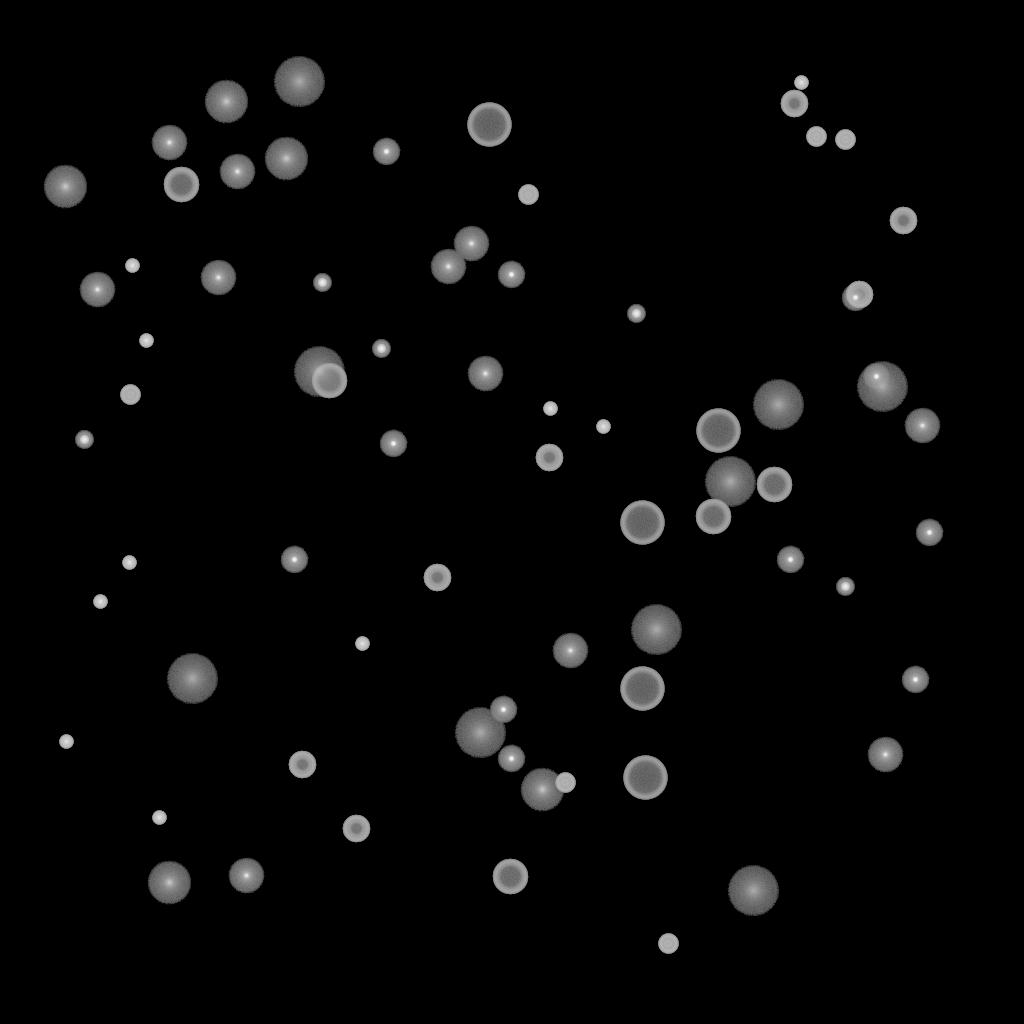depth:-10: (776, 546, 804, 574), (841, 284, 869, 312), (497, 745, 525, 773), (280, 546, 308, 574), (372, 138, 400, 166), (915, 519, 943, 547), (901, 666, 929, 694), (379, 430, 407, 458), (497, 261, 525, 289), (862, 363, 890, 391), (489, 696, 517, 724)
depth:-20: (627, 305, 645, 323), (836, 578, 854, 596), (313, 274, 331, 292), (75, 431, 93, 449), (372, 340, 390, 358)
depth:-30: (543, 402, 557, 416), (122, 556, 136, 570), (596, 420, 610, 434), (152, 811, 166, 825), (794, 76, 808, 90), (139, 334, 153, 348), (93, 595, 107, 609), (355, 637, 369, 651), (59, 735, 73, 749), (125, 259, 139, 273)
depth:-40: (658, 934, 678, 954), (120, 385, 140, 405), (555, 773, 575, 793), (806, 127, 826, 147), (835, 130, 855, 150), (518, 185, 538, 205)
depth:-50: (780, 90, 808, 118), (342, 815, 370, 843), (535, 444, 563, 472), (845, 281, 873, 309), (288, 751, 316, 779), (889, 207, 917, 235), (423, 564, 451, 592)
depth:-60: (311, 363, 347, 399), (163, 167, 199, 203), (492, 859, 528, 895), (695, 499, 731, 535), (756, 467, 792, 503)
depth:-70: (620, 667, 664, 711), (623, 756, 667, 800), (696, 409, 740, 453), (620, 501, 664, 545), (467, 103, 511, 147)
depth:0: (151, 125, 187, 161), (430, 249, 466, 285), (867, 737, 903, 773), (200, 260, 236, 296), (467, 356, 503, 392), (219, 154, 255, 190), (904, 408, 940, 444), (79, 272, 115, 308), (228, 858, 264, 894), (453, 226, 489, 262), (552, 633, 588, 669)
depth:10: (43, 165, 87, 209), (520, 768, 564, 812), (147, 861, 191, 905), (264, 137, 308, 181), (204, 80, 248, 124)
depth:20: (752, 380, 804, 430), (704, 457, 756, 507), (454, 708, 506, 758), (856, 362, 908, 412), (727, 866, 779, 916), (630, 605, 682, 655), (166, 654, 218, 704), (273, 57, 325, 107), (293, 347, 345, 397)
